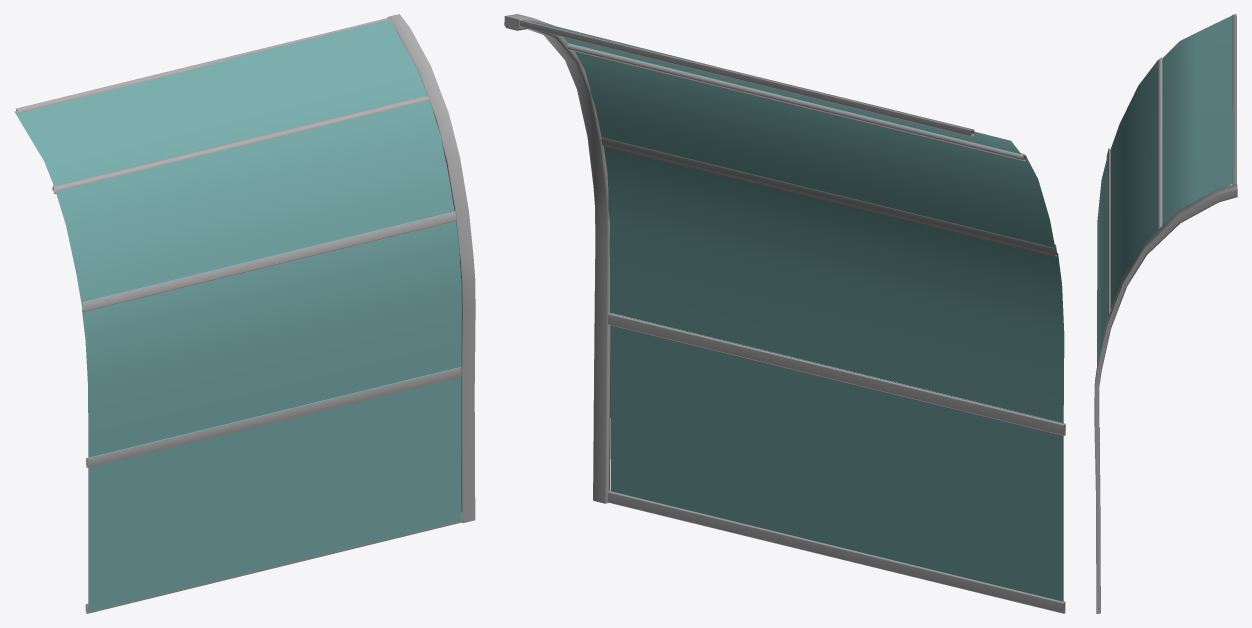
The model's file is fenetre_chambre02_SM.fbx.
3 views of the same model, side by side, from view 1: azimuth 30°, elevation 25°; view 2: azimuth 150°, elevation 25°; view 3: azimuth 270°, elevation 25° (orthographic). The views are drawn at different scales.
Parts seen in each view (by area): view 1: fenetre01; view 2: fenetre01; view 3: fenetre01.
Part boxes in pixels (box(x1,y1,x2,y2)): fenetre01: box(14, 14, 475, 613); fenetre01: box(504, 14, 1065, 613); fenetre01: box(1094, 14, 1237, 613).
Size of the model in its own units: 9.25 by 3.16 by 10.31.
